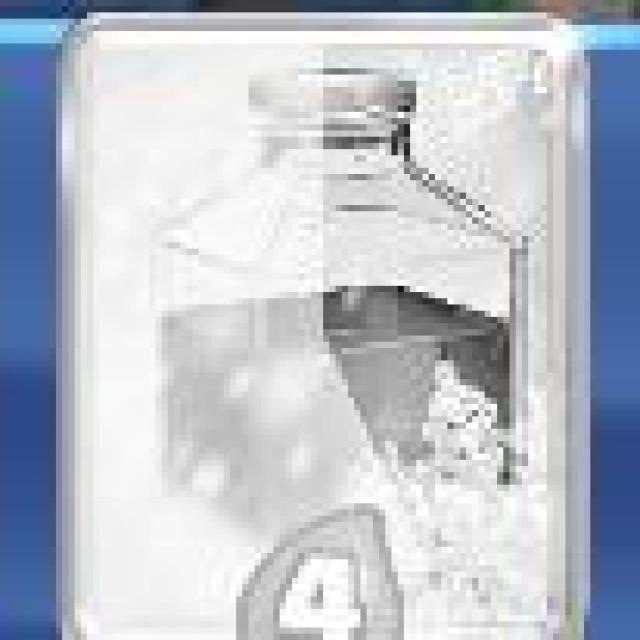Freeze: (60, 15, 594, 640)
